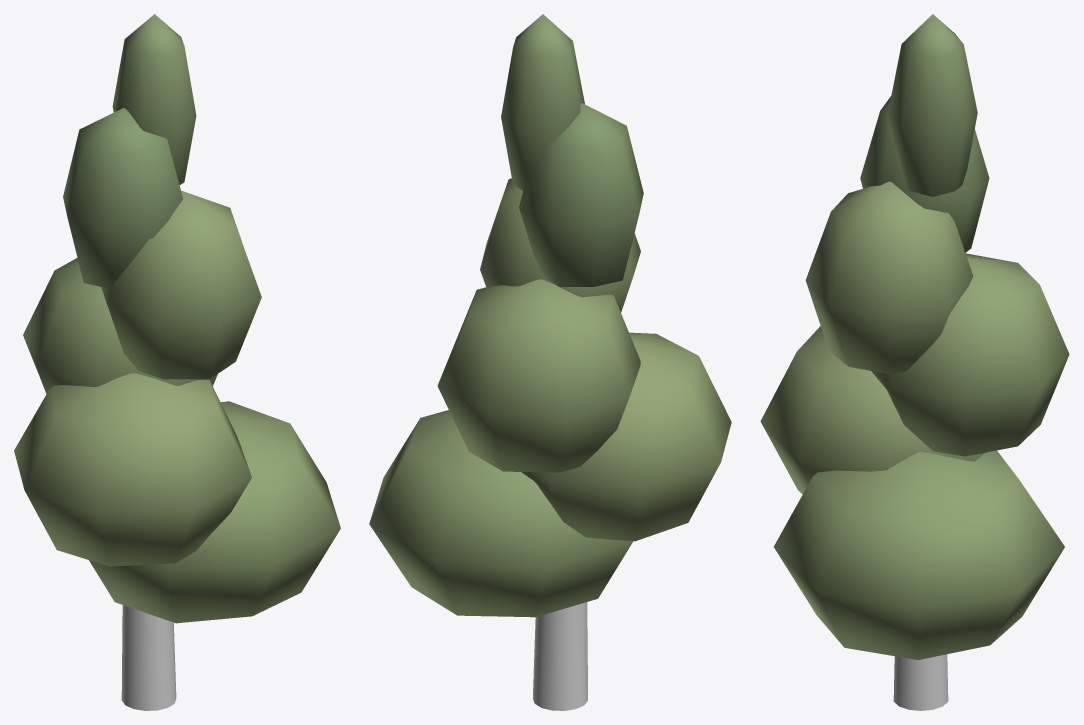
Rendered from pine_v2_near.gltf.
The picture shows the model from 3 angles, left to right: view 1: azimuth 30°, elevation 25°; view 2: azimuth 150°, elevation 25°; view 3: azimuth 270°, elevation 25°; orthographic projection.
Parts seen in each view (by area): view 1: foliage, bark; view 2: foliage, bark; view 3: foliage, bark.
Boxes of the visible parts, x1,y1,x2,y2 form: foliage: (14,14,340,623); bark: (121,605,176,710); foliage: (369,14,731,617); bark: (533,602,587,710); foliage: (760,14,1069,659); bark: (893,654,948,710).
Size of the model in its own units: 2.95 by 6.01 by 2.44.
